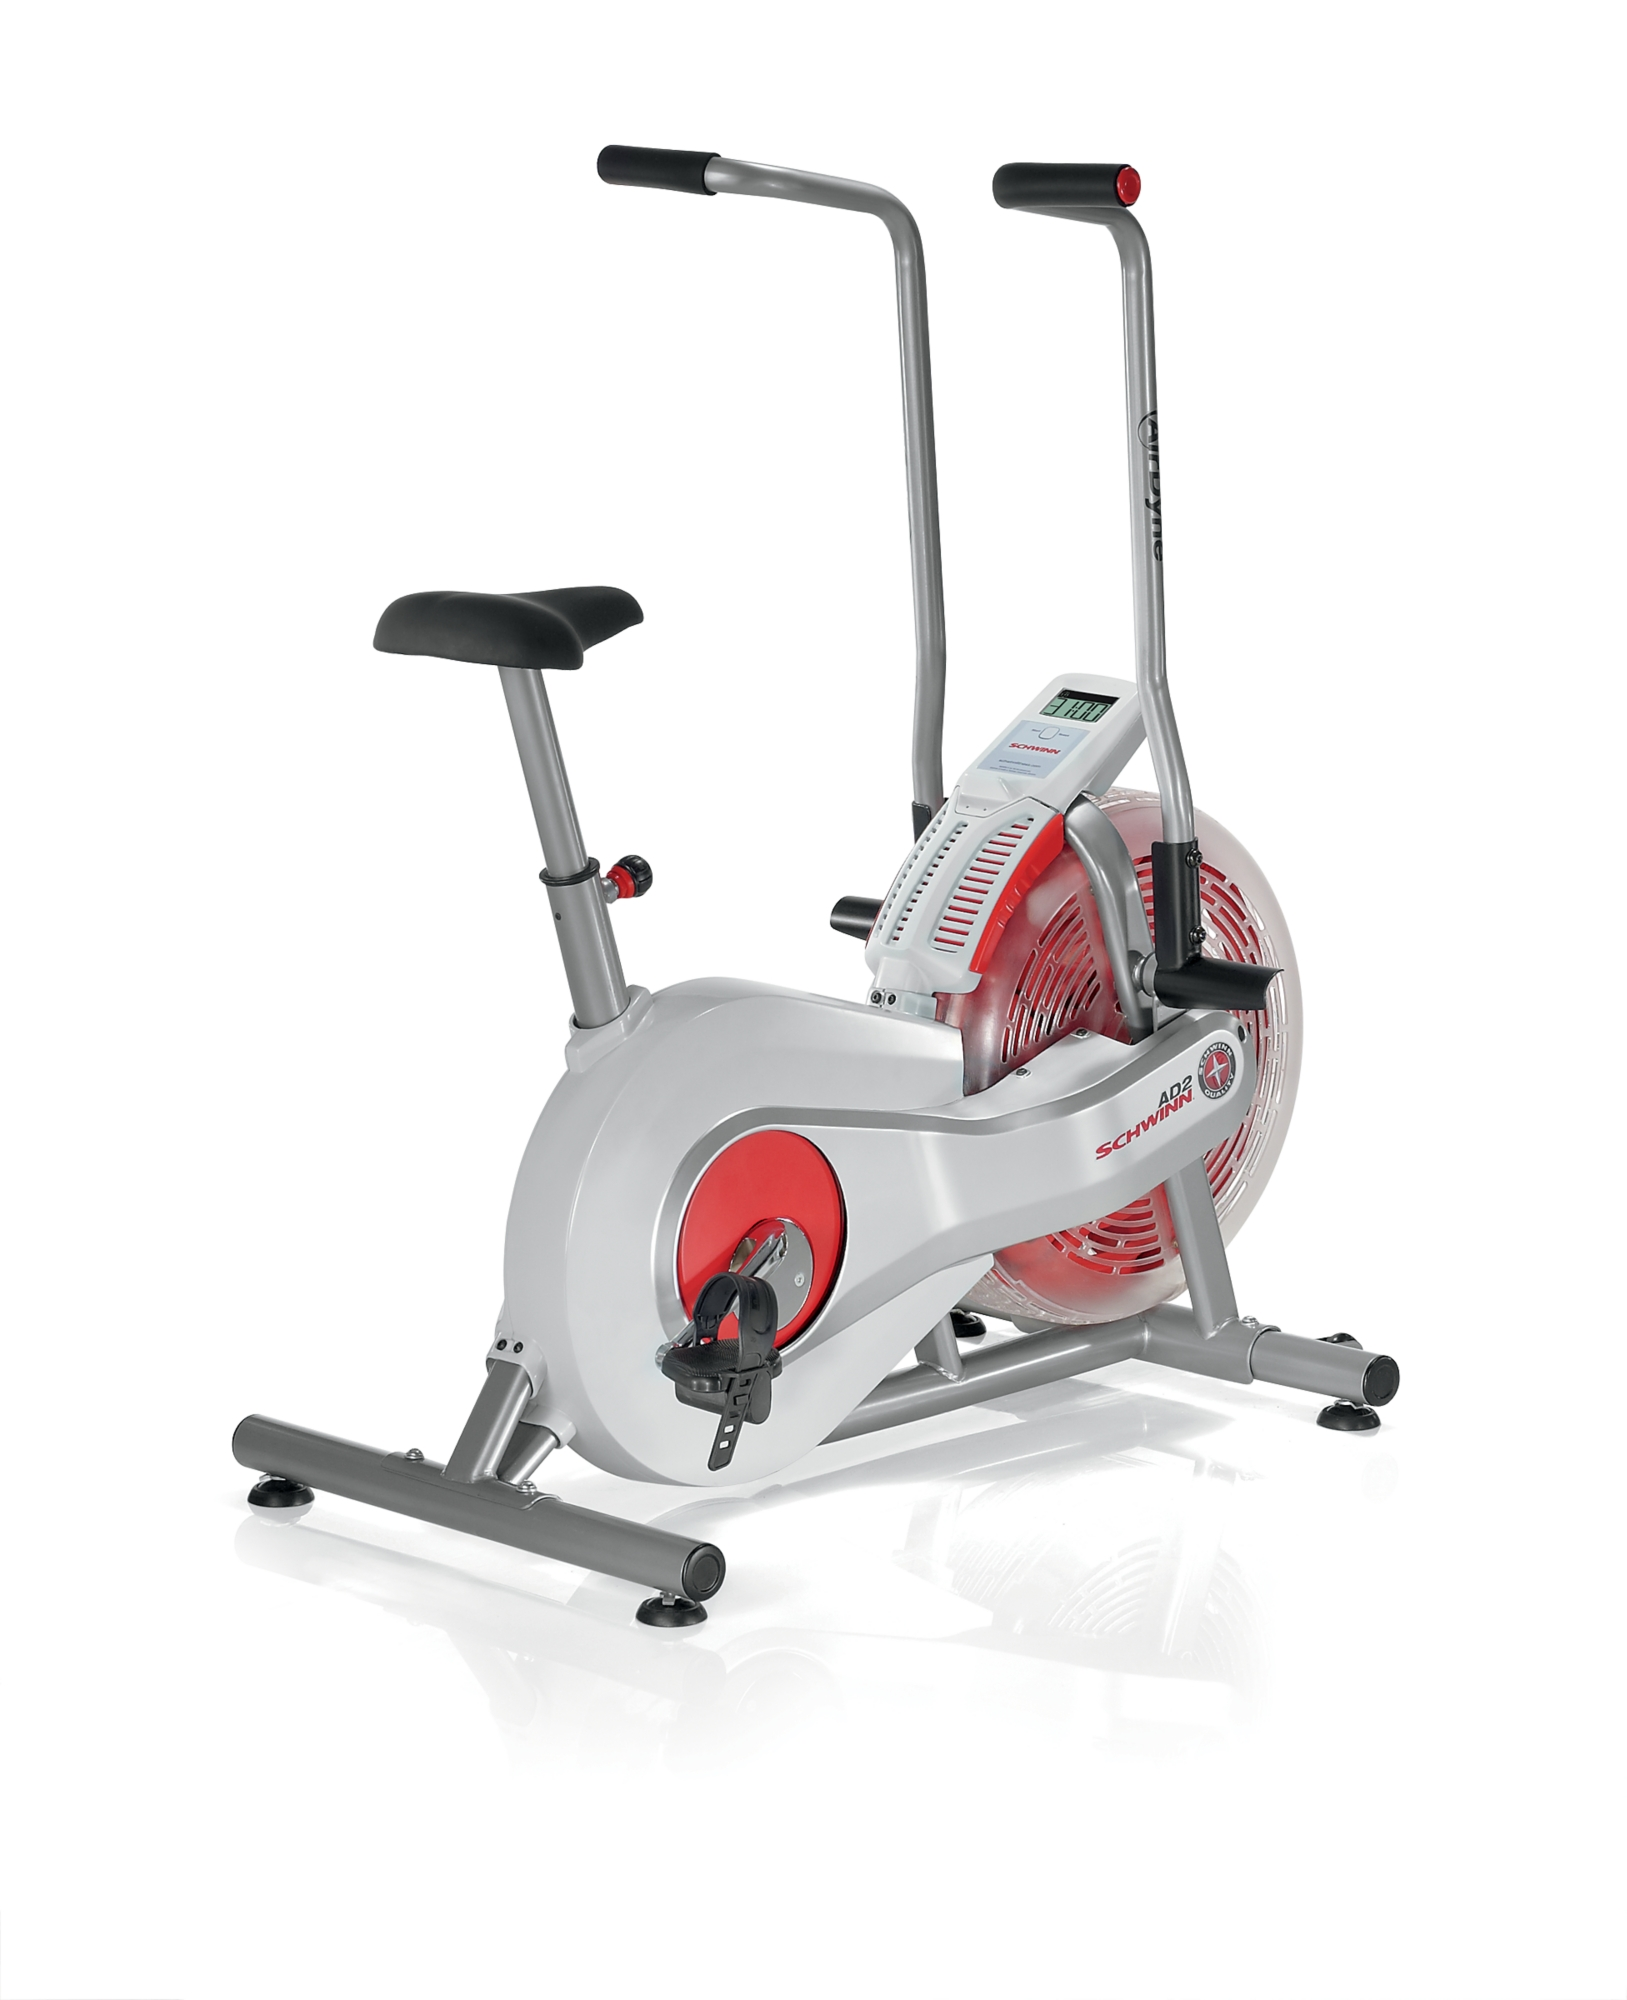gym_bike: (221, 121, 1406, 1638)
